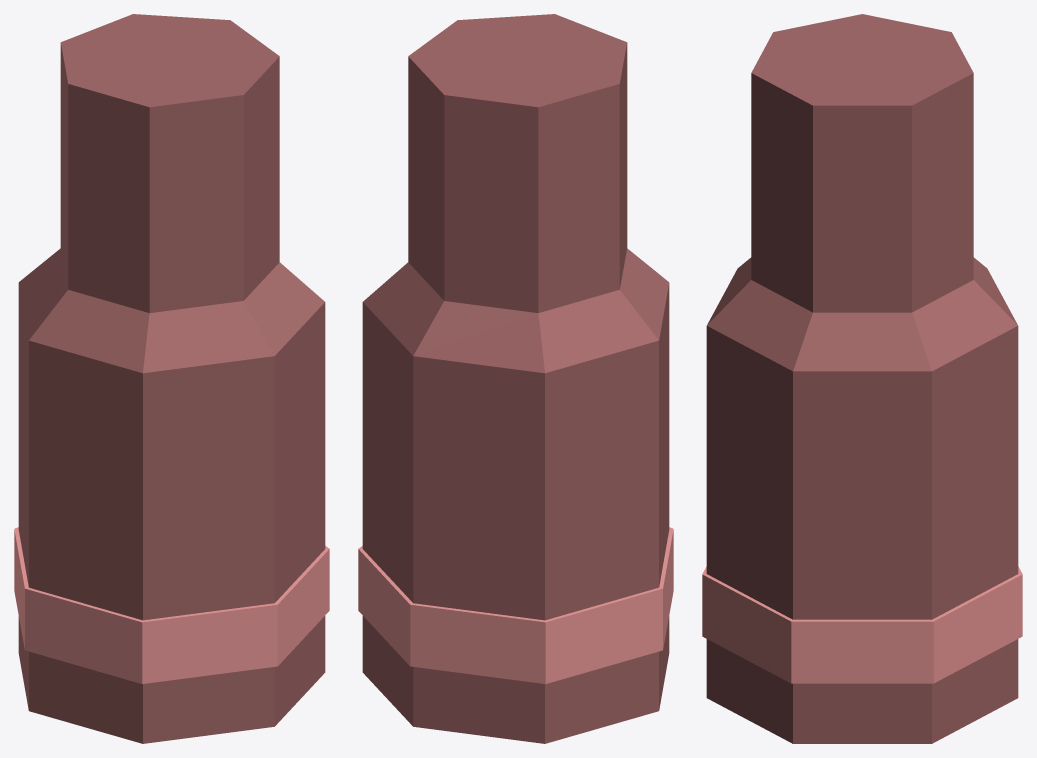
Rendered from ce_ammo2_flare_bio_a.obj.
3 views of the same model, side by side, from view 1: azimuth 30°, elevation 25°; view 2: azimuth 150°, elevation 25°; view 3: azimuth 270°, elevation 25° (orthographic).
Parts seen in each view (by area): view 1: ce_ammo2_flare_bio_a_2, ce_ammo2_flare_bio_a_4, ce_ammo2_flare_bio_a_1, ce_ammo2_flare_bio_a_3, ce_ammo2_flare_bio_a_0; view 2: ce_ammo2_flare_bio_a_2, ce_ammo2_flare_bio_a_4, ce_ammo2_flare_bio_a_1, ce_ammo2_flare_bio_a_3, ce_ammo2_flare_bio_a_0; view 3: ce_ammo2_flare_bio_a_2, ce_ammo2_flare_bio_a_4, ce_ammo2_flare_bio_a_1, ce_ammo2_flare_bio_a_3, ce_ammo2_flare_bio_a_0.
Part boxes in pixels (x1,y1,x2,y2): ce_ammo2_flare_bio_a_2: (18, 283, 325, 620); ce_ammo2_flare_bio_a_4: (60, 14, 279, 313); ce_ammo2_flare_bio_a_1: (14, 527, 329, 683); ce_ammo2_flare_bio_a_3: (18, 248, 324, 373); ce_ammo2_flare_bio_a_0: (18, 616, 325, 743); ce_ammo2_flare_bio_a_2: (362, 283, 669, 620); ce_ammo2_flare_bio_a_4: (408, 14, 627, 313); ce_ammo2_flare_bio_a_1: (358, 527, 673, 683); ce_ammo2_flare_bio_a_3: (363, 248, 669, 373); ce_ammo2_flare_bio_a_0: (362, 616, 669, 743); ce_ammo2_flare_bio_a_2: (706, 326, 1018, 619); ce_ammo2_flare_bio_a_4: (751, 14, 973, 312); ce_ammo2_flare_bio_a_1: (702, 566, 1022, 683); ce_ammo2_flare_bio_a_3: (707, 257, 1017, 371); ce_ammo2_flare_bio_a_0: (706, 639, 1018, 743).
Bounding box in the file's own units: 0.1369 × 0.3 × 0.1404.
